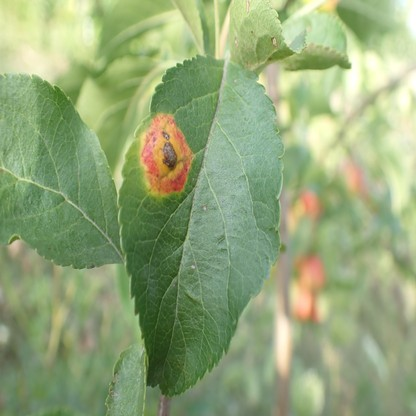rust: (140, 113, 194, 194)
